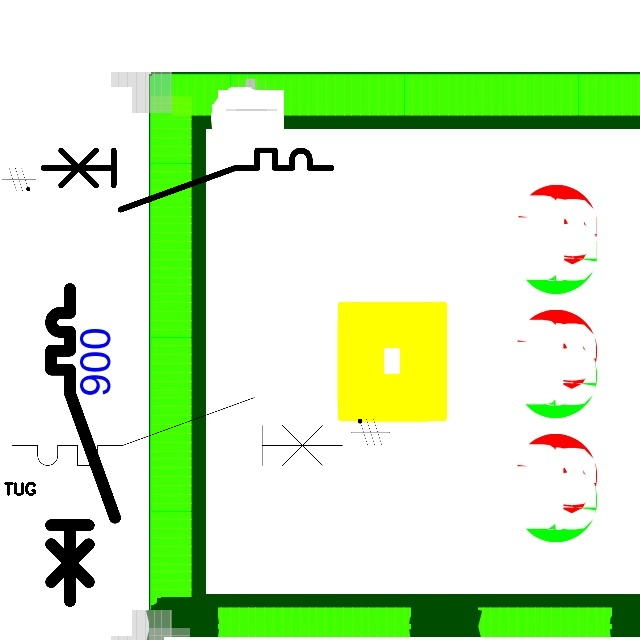interruptor_termomagnetico: (4, 389, 351, 474), (43, 281, 123, 609), (36, 143, 339, 217)
